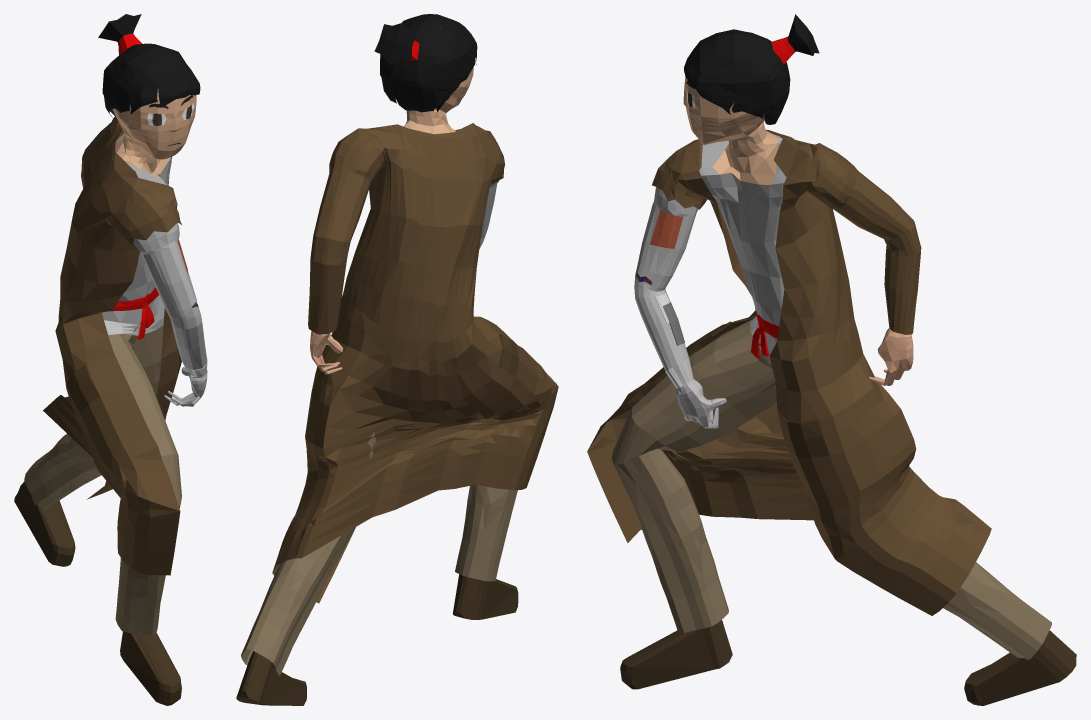
Rendered from OneAnimationTest_000019.obj.
3 views of the same model, side by side, from view 1: azimuth 30°, elevation 25°; view 2: azimuth 150°, elevation 25°; view 3: azimuth 270°, elevation 25° (orthographic). The views are drawn at different scales.
Parts seen in each view (by area): view 1: Jacket_Cube, Body_Cube.003, Hair_Cube.004; view 2: Jacket_Cube, Body_Cube.003, Hair_Cube.004; view 3: Jacket_Cube, Body_Cube.003, Hair_Cube.004.
Boxes of the visible parts, box(x1,y1,x2,y2) form: Jacket_Cube: box(43, 117, 181, 575); Body_Cube.003: box(14, 89, 207, 705); Hair_Cube.004: box(98, 14, 200, 117); Jacket_Cube: box(272, 123, 558, 603); Body_Cube.003: box(236, 67, 518, 705); Hair_Cube.004: box(374, 14, 477, 112); Jacket_Cube: box(587, 129, 991, 615); Body_Cube.003: box(611, 77, 1076, 705); Hair_Cube.004: box(684, 14, 819, 124).
Size of the model in its own units: 0.8966 by 3.63 by 2.36.
